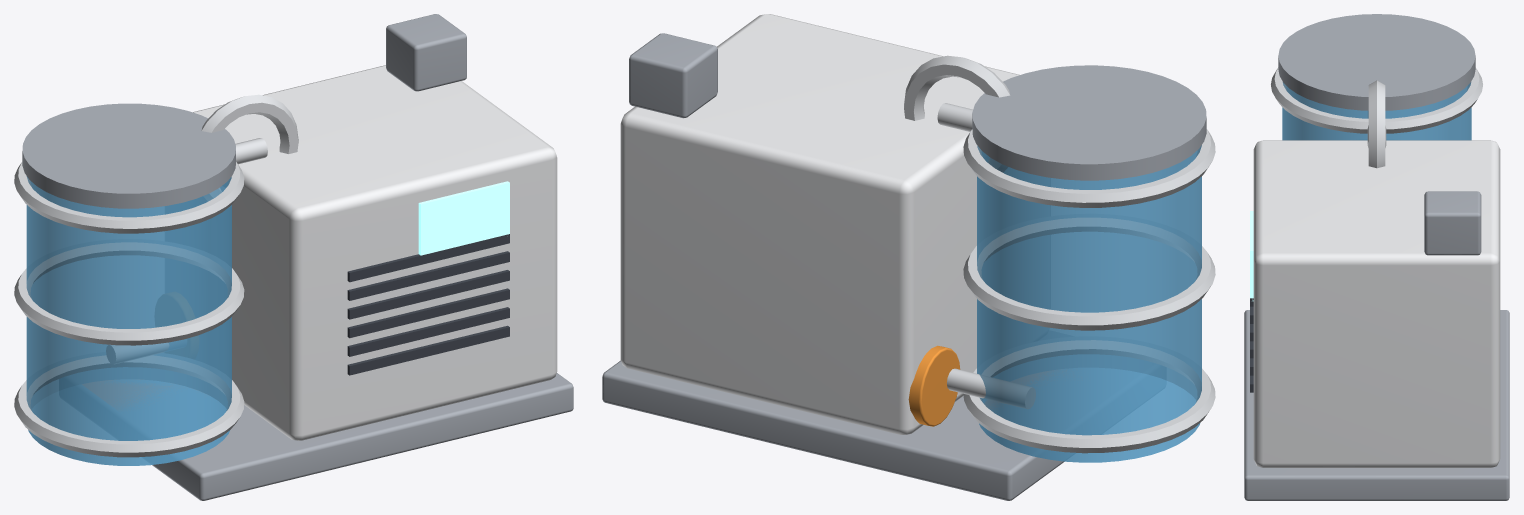
File: reciclador.glb
The picture shows the model from 3 angles, left to right: view 1: azimuth 30°, elevation 25°; view 2: azimuth 150°, elevation 25°; view 3: azimuth 270°, elevation 25°; orthographic projection. The views are drawn at different scales.
Parts seen in each view (by area): view 1: unidad, tanque, patin, Cylinder.003, Torus.001, Torus, filtro, estado, Torus.002, Torus.003, Cube.015, Cube.017 (+6 smaller); view 2: unidad, tanque, Cylinder.003, patin, Torus.001, Torus, filtro, Torus.002, Torus.003, bomba, Cylinder.005, Cylinder.004; view 3: unidad, Cylinder.003, patin, tanque, filtro, Torus.002, Torus.003, estado.
Boxes of the visible parts, x1,y1,x2,y2 form: unidad: (193,65,557,440); tanque: (26,176,231,465); patin: (82,373,573,500); Cylinder.003: (22,103,235,208); Torus.001: (14,242,244,345); Torus: (14,355,244,457); filtro: (386,14,466,91); estado: (418,181,509,255); Torus.002: (14,162,244,233); Torus.003: (201,94,298,200); Cube.015: (347,288,509,338); Cube.017: (347,251,509,300); unidad: (620,14,1019,434); tanque: (977,145,1201,462); Cylinder.003: (972,65,1206,180); patin: (602,360,1082,500); Torus.001: (963,217,1215,330); Torus: (963,340,1215,453); filtro: (629,33,717,118); Torus.002: (963,129,1215,207); Torus.003: (904,55,1010,172); bomba: (908,345,960,426); Cylinder.005: (947,368,1035,408); Cylinder.004: (937,103,972,131); unidad: (1253,140,1500,467); Cylinder.003: (1278,14,1475,110); patin: (1244,310,1509,500); tanque: (1282,82,1471,140); filtro: (1424,191,1481,255); Torus.002: (1271,68,1482,133); Torus.003: (1368,80,1385,168); estado: (1250,211,1253,301).
Size of the model in its own units: 2.66 by 1.75 by 1.4.
